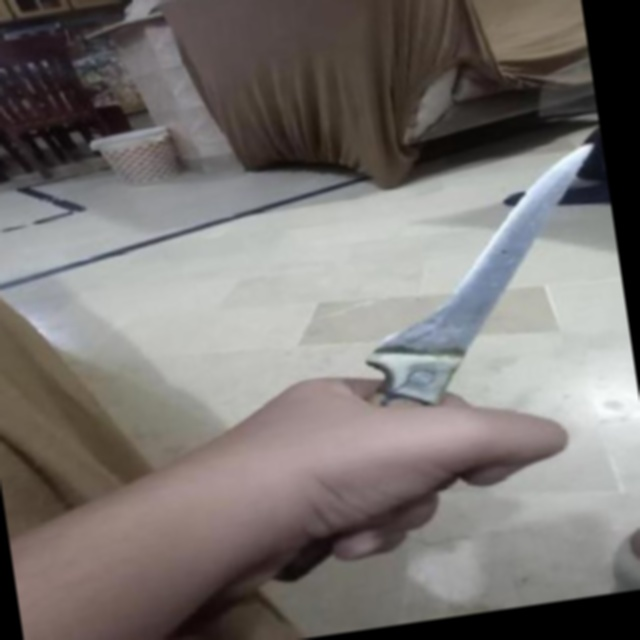Sharp-Object: (220, 145, 640, 584)
